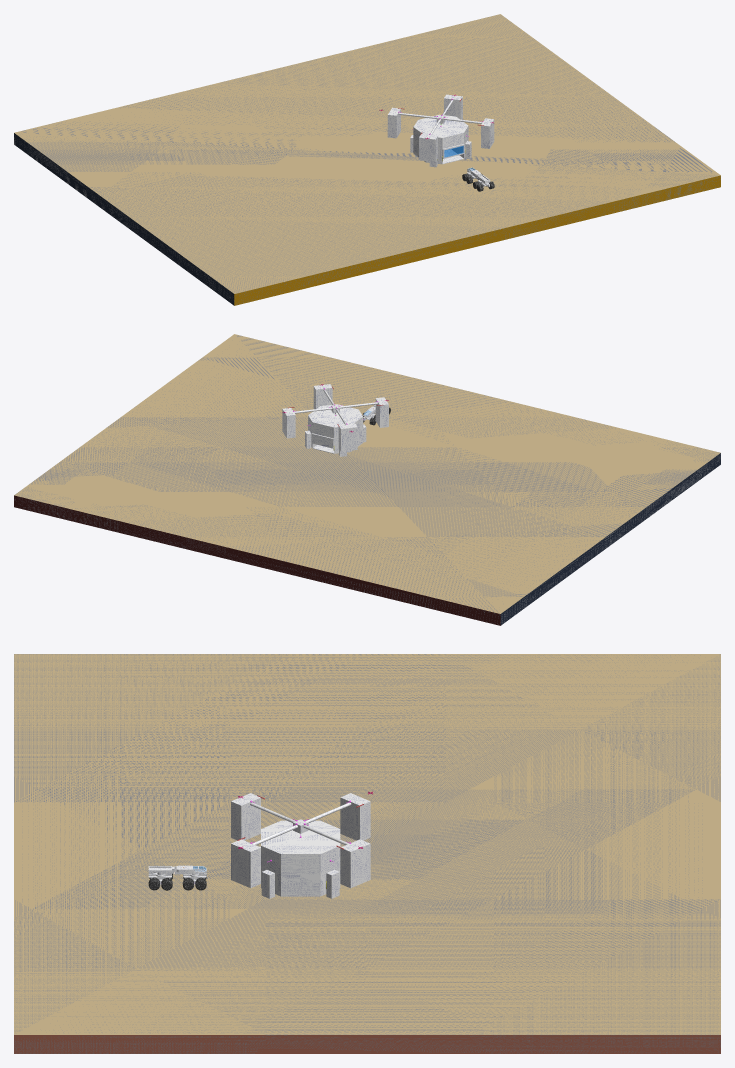
The picture shows the model from 3 angles, top to bottom: view 1: azimuth 30°, elevation 25°; view 2: azimuth 150°, elevation 25°; view 3: azimuth 270°, elevation 25°; orthographic projection. The views are drawn at different scales.
Visible parts, largest first — view 1: floor (×3), group_1, group_14; view 2: floor (×3), group_1, group_12; view 3: floor (×2), group_1, group_10, group_8, group_12, group_14, group_2.
Boxes of the visible parts, x1,y1,x2,y2 form: floor (×3): (14,14,720,305); group_1: (413,114,468,151); group_14: (419,134,437,161); floor (×3): (14,334,720,625); group_1: (308,404,363,440); group_12: (338,423,357,451); floor (×2): (14,654,720,1053); group_1: (261,820,340,875); group_10: (340,839,370,888); group_8: (231,839,260,888); group_12: (340,793,370,840); group_14: (231,793,260,840); group_2: (261,867,340,896).
Size of the model in its own units: 7039 by 5523 by 716.
